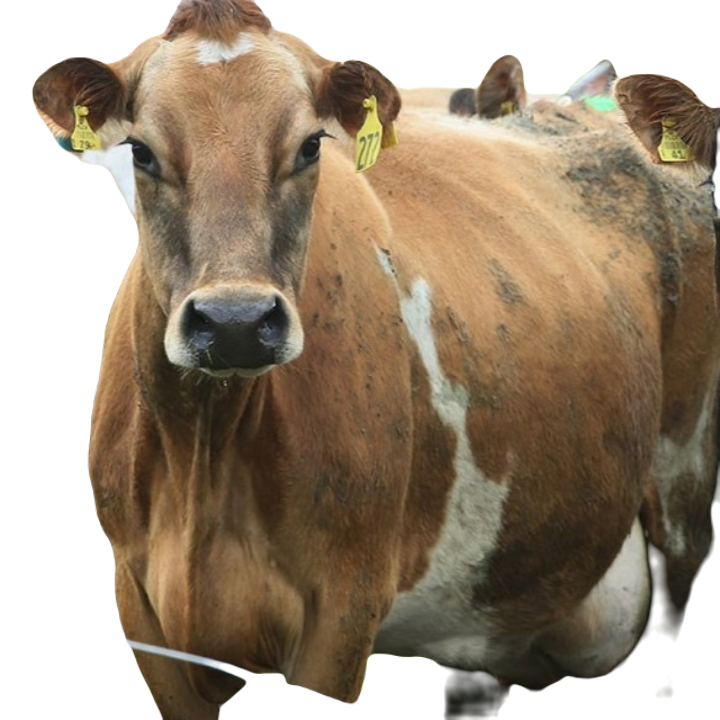Cow: (31, 0, 719, 719)
